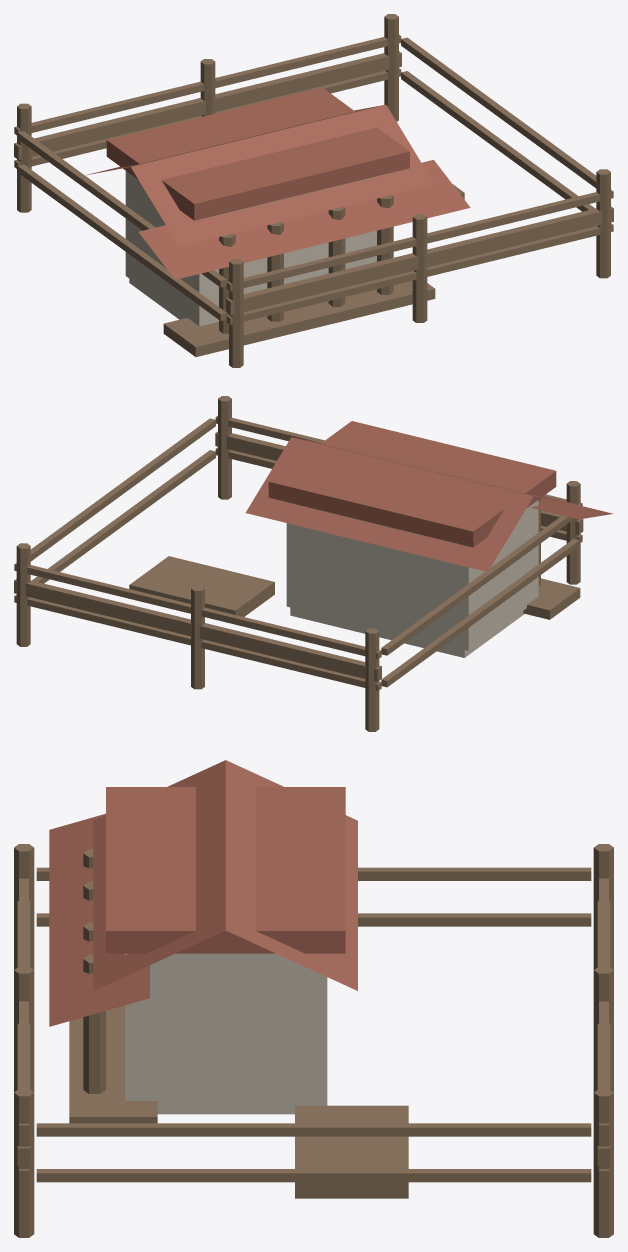
File: yard.glb
The picture shows the model from 3 angles, top to bottom: view 1: azimuth 30°, elevation 25°; view 2: azimuth 150°, elevation 25°; view 3: azimuth 270°, elevation 25°; orthographic projection. The views are drawn at different scales.
Parts seen in each view (by area): view 1: near, far; view 2: near, far; view 3: near, far.
Part boxes in pixels (left/top/right/bottom): near: left=14, top=14, right=613, bottom=367; far: left=14, top=51, right=613, bottom=326; near: left=14, top=396, right=613, bottom=731; far: left=14, top=421, right=583, bottom=681; near: left=14, top=760, right=613, bottom=1237; far: left=17, top=787, right=610, bottom=1166.
Bounding box in the file's own units: 2.7 × 0.91 × 2.38.
